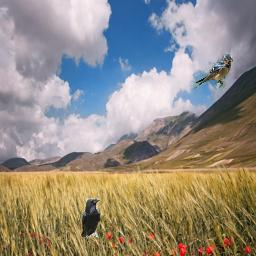Crow: (81, 198, 100, 238)
Swallow: (193, 54, 233, 90)
